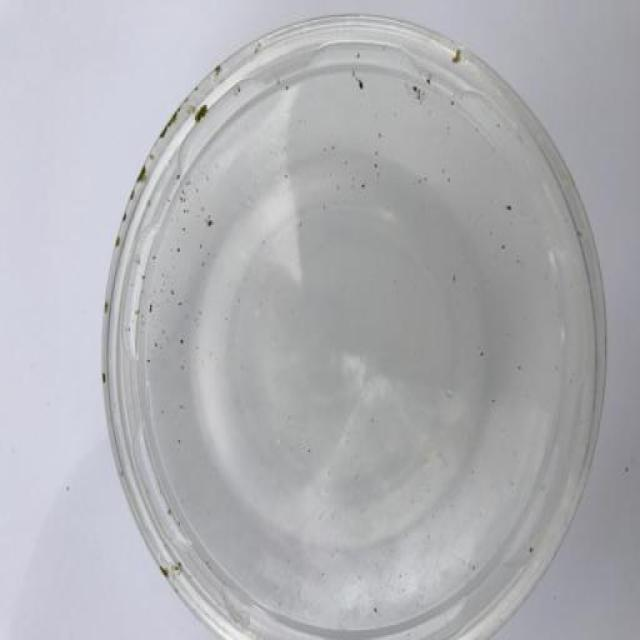Plastic: (99, 12, 611, 640)
